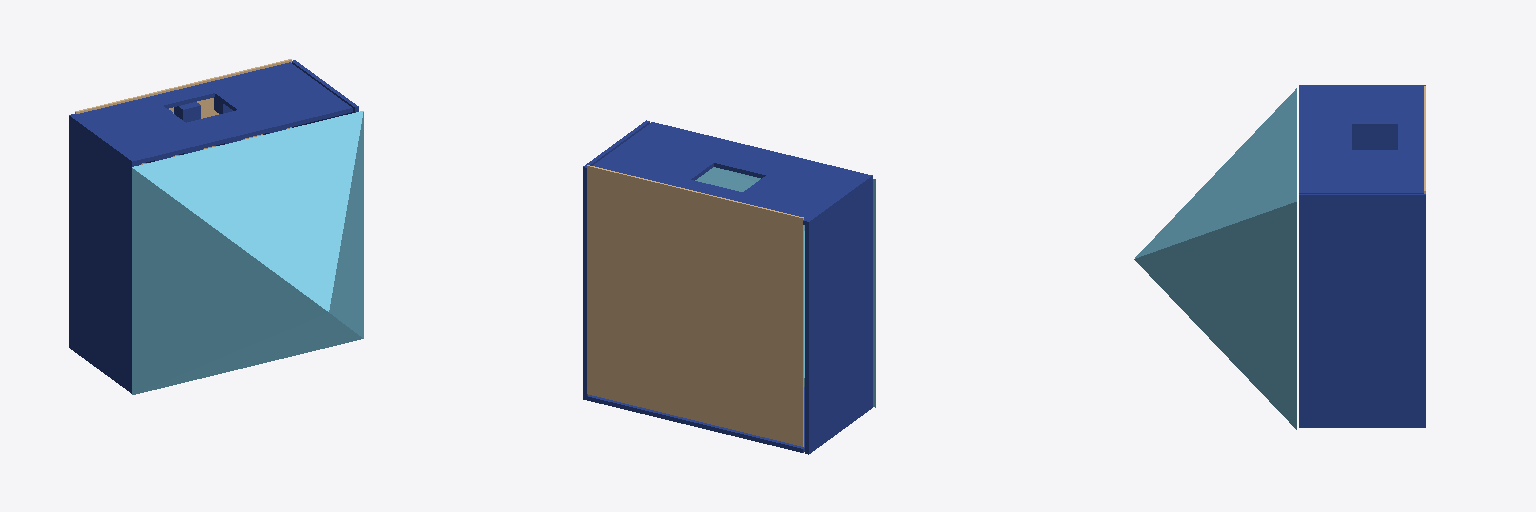
The model's file is tinker.obj.
3 views of the same model, side by side, from view 1: azimuth 30°, elevation 25°; view 2: azimuth 150°, elevation 25°; view 3: azimuth 270°, elevation 25° (orthographic).
Visible parts, largest first — view 1: obj_0; view 2: obj_0; view 3: obj_0.
Boxes of the visible parts, box(x1,y1,x2,y2) form: obj_0: box(69, 59, 363, 394); obj_0: box(583, 120, 875, 454); obj_0: box(1134, 85, 1425, 429).
Bounding box in the file's own units: 116 × 112 × 126.